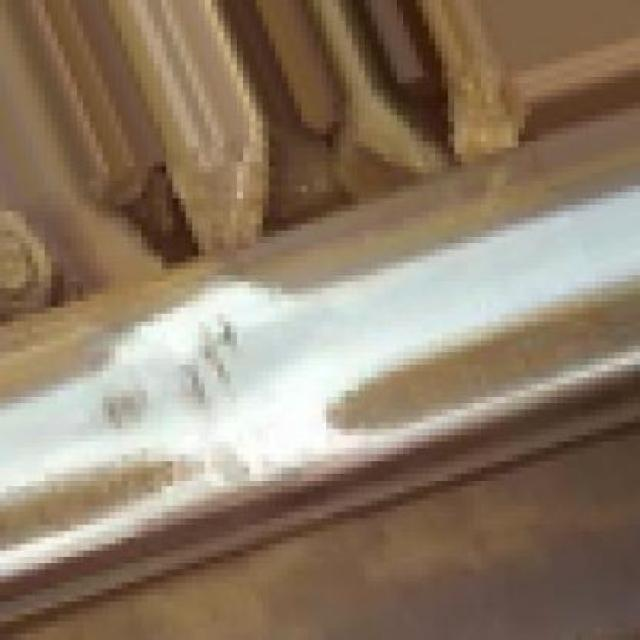defective: (7, 90, 640, 640)
